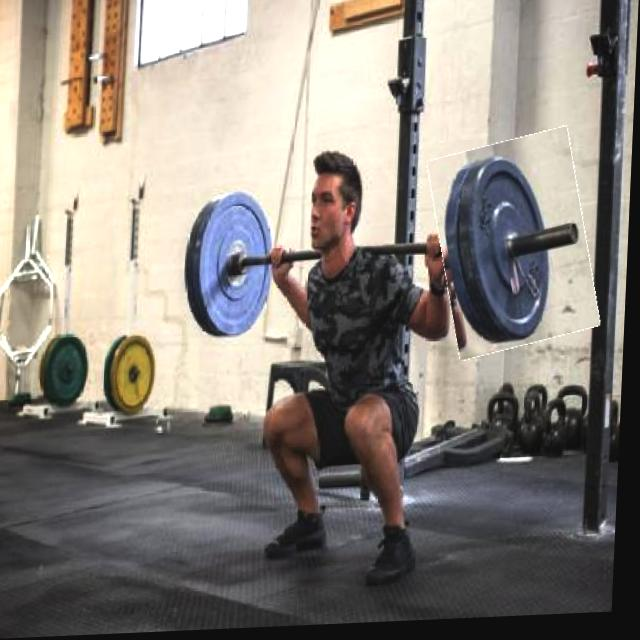barbell: (433, 138, 602, 362)
